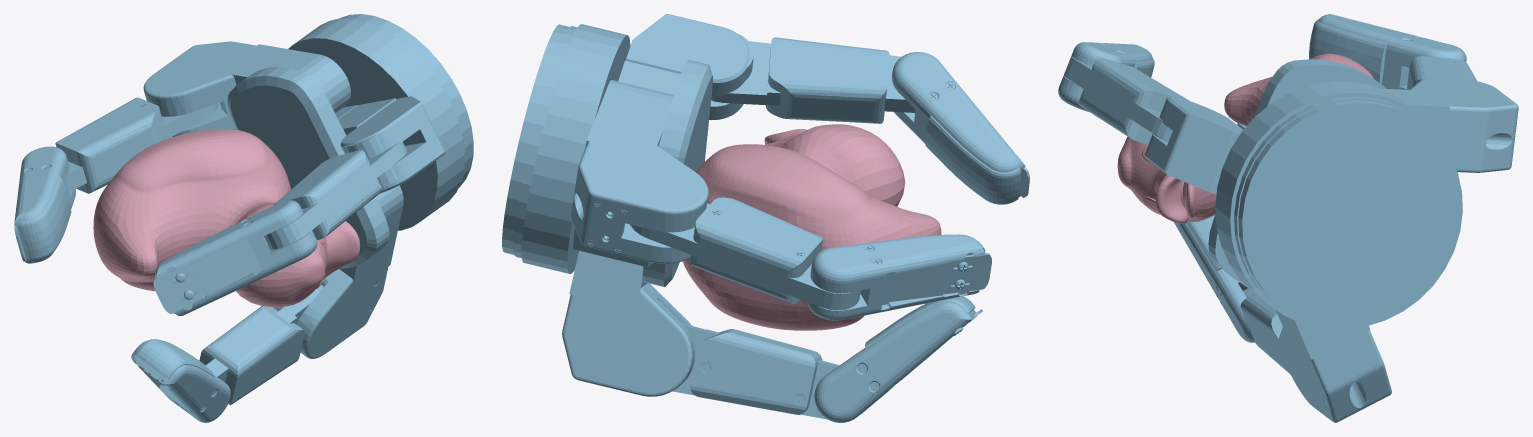
3 views of the same model, side by side, from view 1: azimuth 30°, elevation 25°; view 2: azimuth 150°, elevation 25°; view 3: azimuth 270°, elevation 25° (orthographic). The views are drawn at different scales.
Visible parts, largest first — view 1: world, rubber_duck.stl; view 2: world, rubber_duck.stl; view 3: world, rubber_duck.stl.
Part boxes in pixels (x1,y1,x2,y2): world: (14,14,473,422); rubber_duck.stl: (93,129,360,307); world: (502,14,1029,422); rubber_duck.stl: (683,124,941,330); world: (1058,14,1518,422); rubber_duck.stl: (1117,53,1373,223).
Size of the model in its own units: 0.2006 by 0.1437 by 0.1681.
